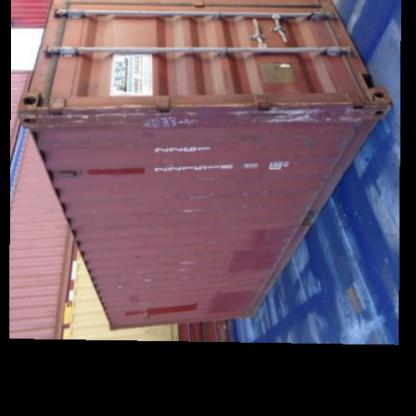Damage: (30, 102, 74, 138), (244, 116, 336, 132), (82, 104, 150, 125), (235, 186, 276, 214), (174, 190, 214, 218), (172, 256, 194, 286), (137, 262, 158, 286), (136, 302, 152, 326), (113, 280, 128, 296)
